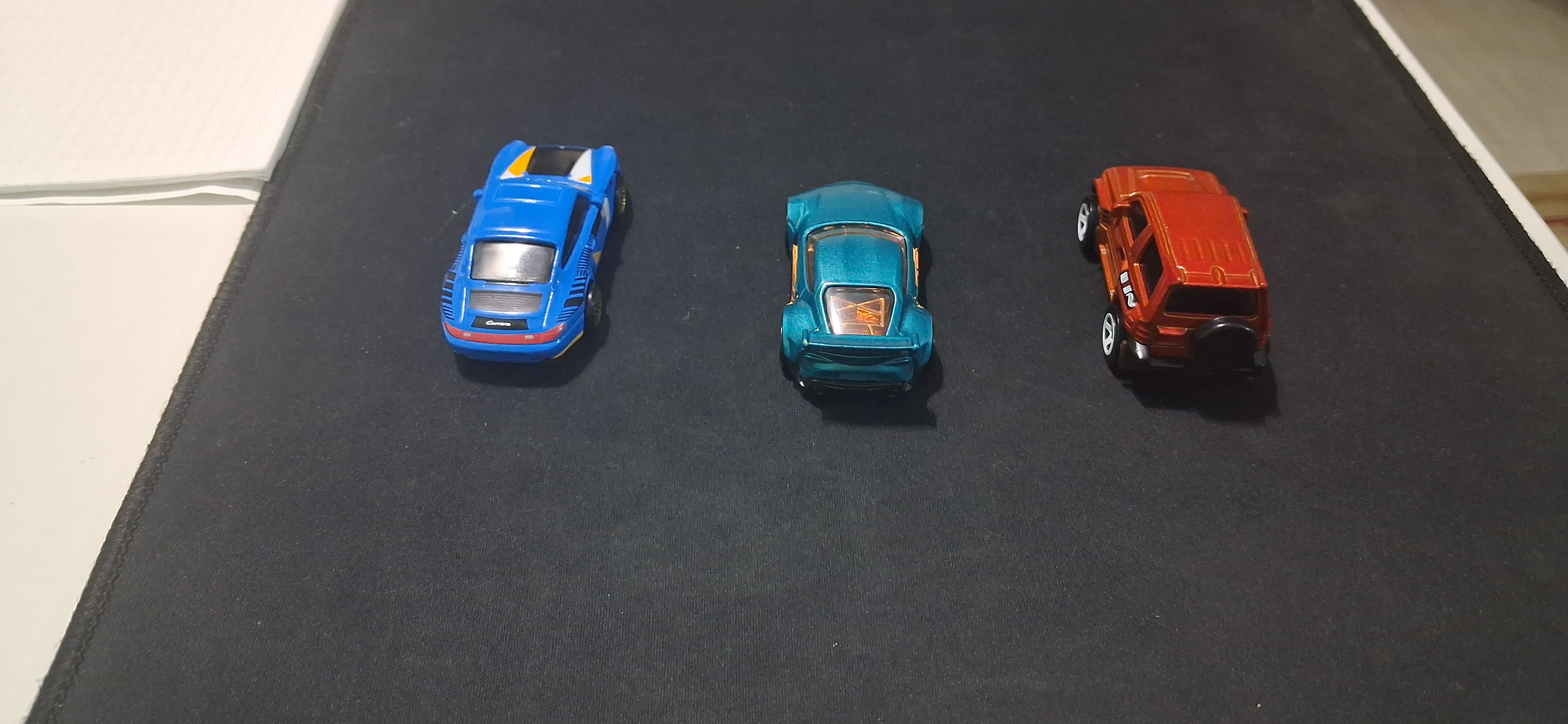Mitsubishi_Pajero_Evolution: (1044, 148, 1290, 400)
Porsche_Carrera: (433, 107, 639, 404)
Toyota_GR_Supra: (737, 155, 955, 414)
